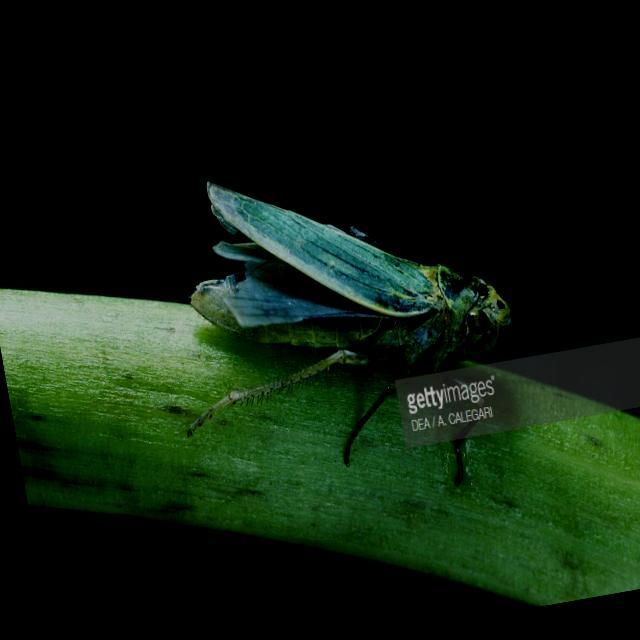green leaf hopper: (188, 181, 508, 450)
